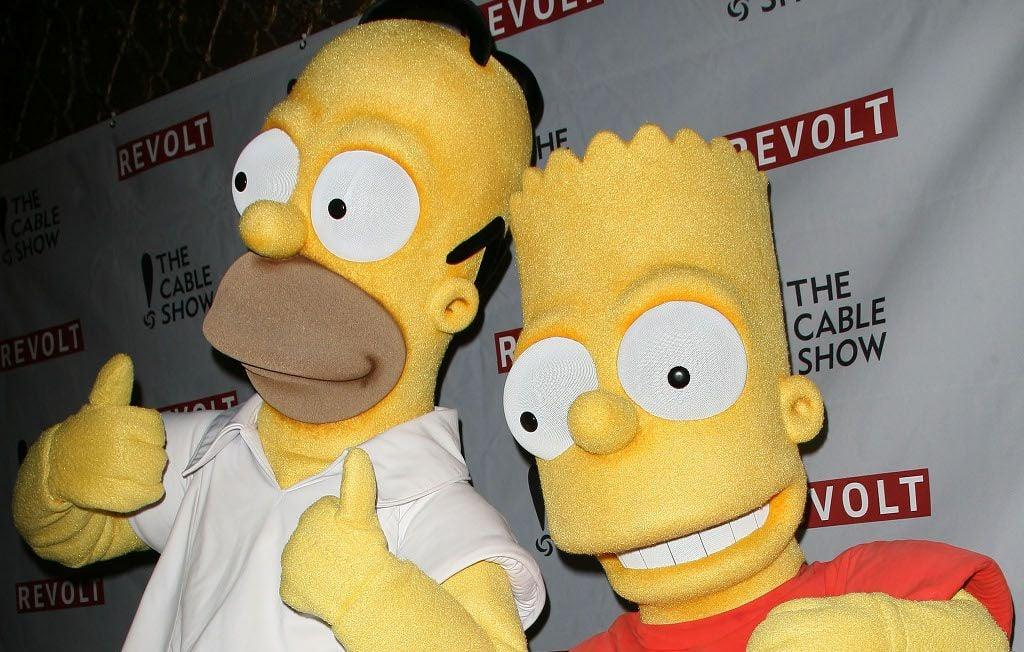Bart: (490, 103, 889, 611)
Homer: (75, 15, 514, 605)
